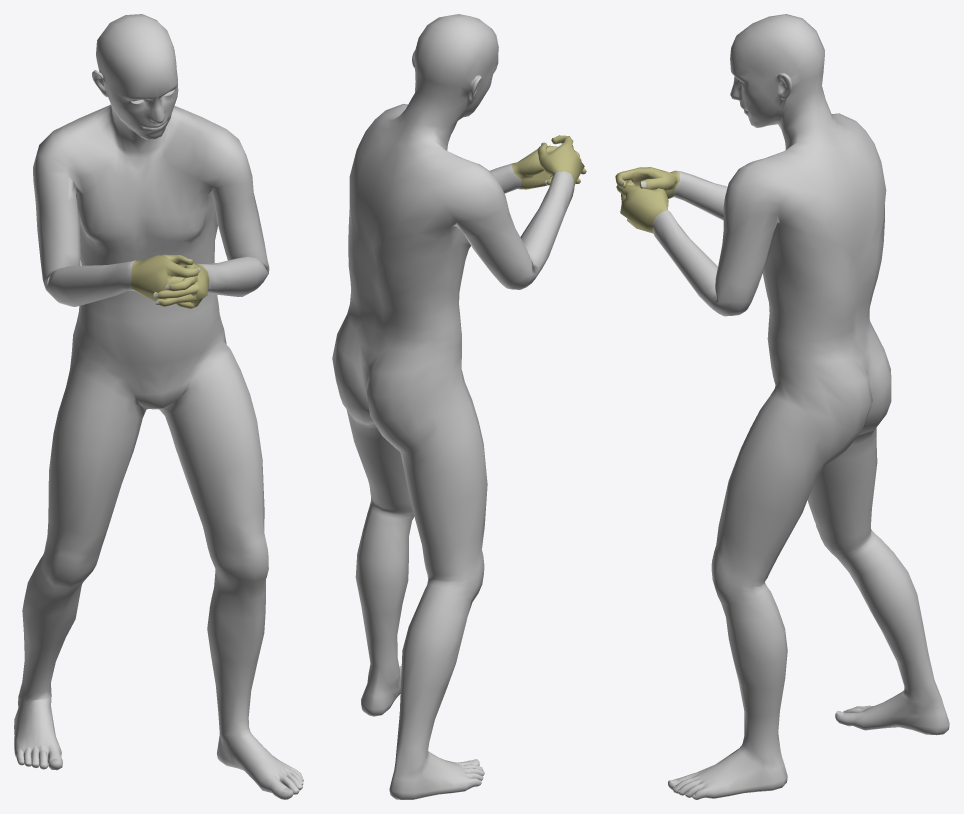
The model's file is ref1.glb.
3 views of the same model, side by side, from view 1: azimuth 30°, elevation 25°; view 2: azimuth 150°, elevation 25°; view 3: azimuth 270°, elevation 25° (orthographic). The views are drawn at different scales.
Parts seen in each view (by area): view 1: Box001; view 2: Box001; view 3: Box001.
Part boxes in pixels (x1,y1,x2,y2): Box001: [14, 14, 303, 799]; Box001: [332, 14, 586, 799]; Box001: [615, 14, 949, 799].
Size of the model in its own units: 0.5058 by 1.76 by 0.7277.
